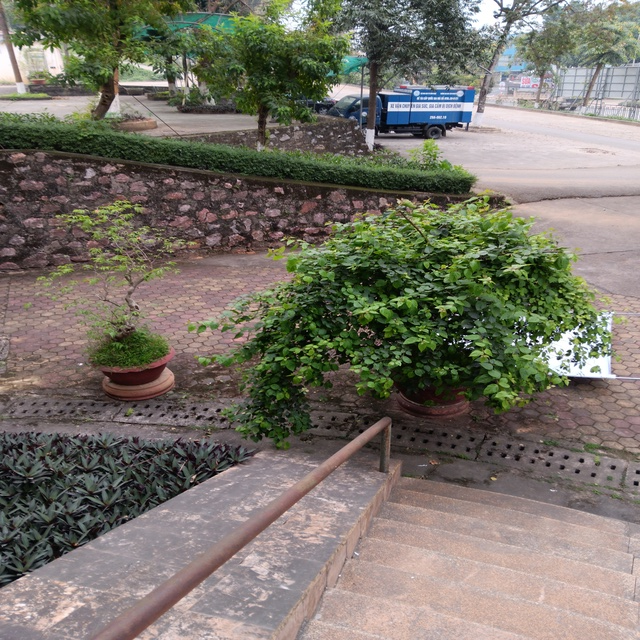caycanh: (324, 184, 572, 445), (44, 193, 199, 410)
